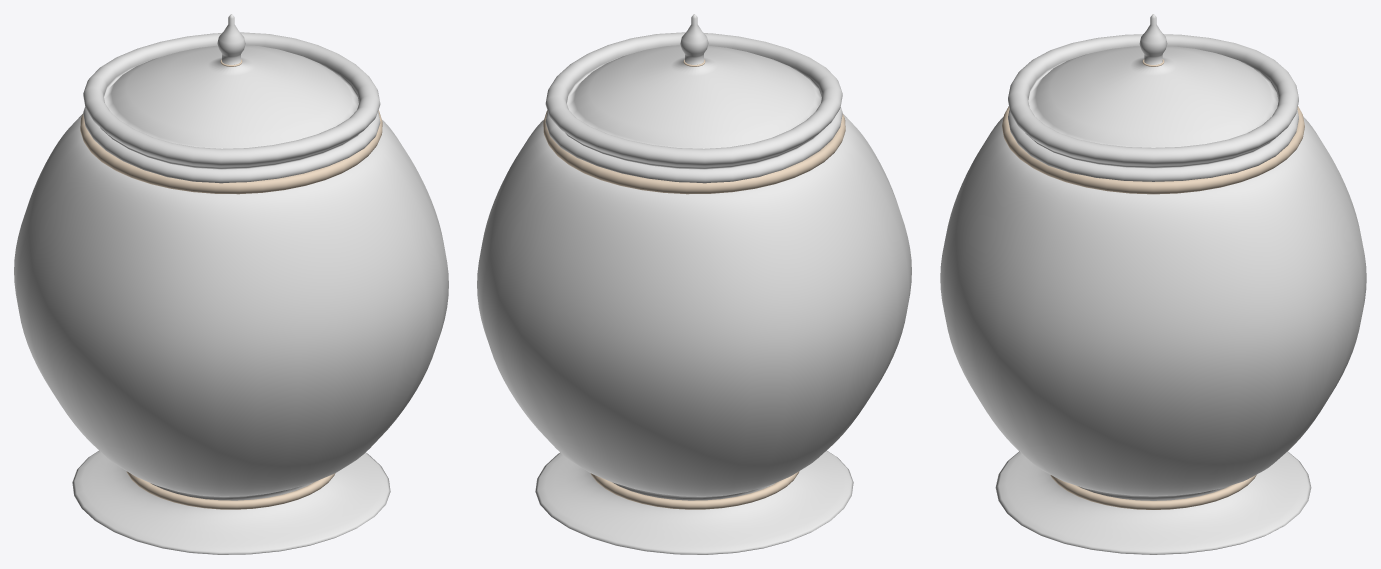
Rendered from CandyJar.fbx.
3 views of the same model, side by side, from view 1: azimuth 30°, elevation 25°; view 2: azimuth 150°, elevation 25°; view 3: azimuth 270°, elevation 25° (orthographic).
Parts seen in each view (by area): view 1: Jar part 1; view 2: Jar part 1; view 3: Jar part 1.
Boxes of the visible parts, x1,y1,x2,y2 form: Jar part 1: [14, 14, 448, 554]; Jar part 1: [477, 14, 911, 554]; Jar part 1: [940, 14, 1366, 554].
Size of the model in its own units: 211 by 261 by 211.
